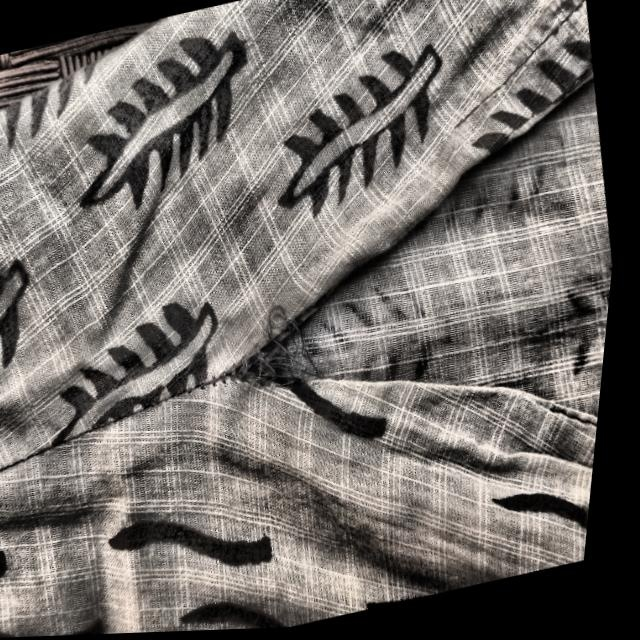Stitch: (170, 244, 383, 445)
